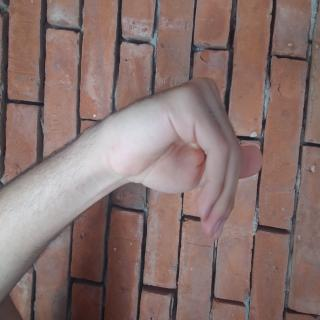KHAA: (54, 69, 182, 302)
